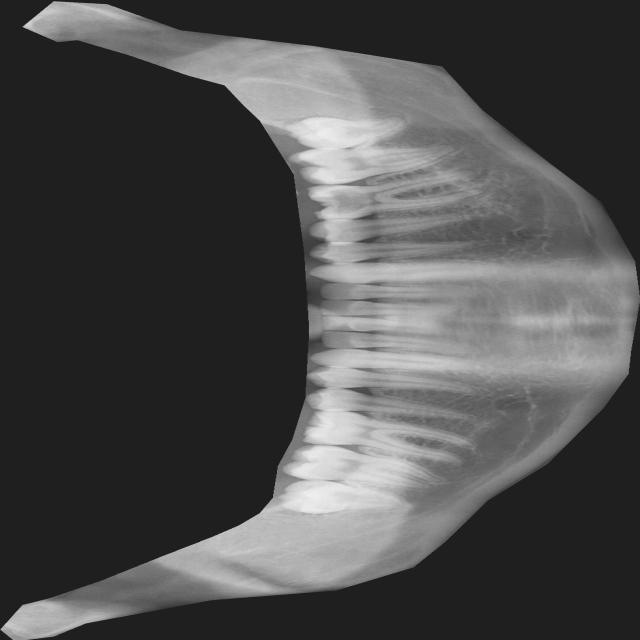mandibula: (0, 0, 640, 640)
